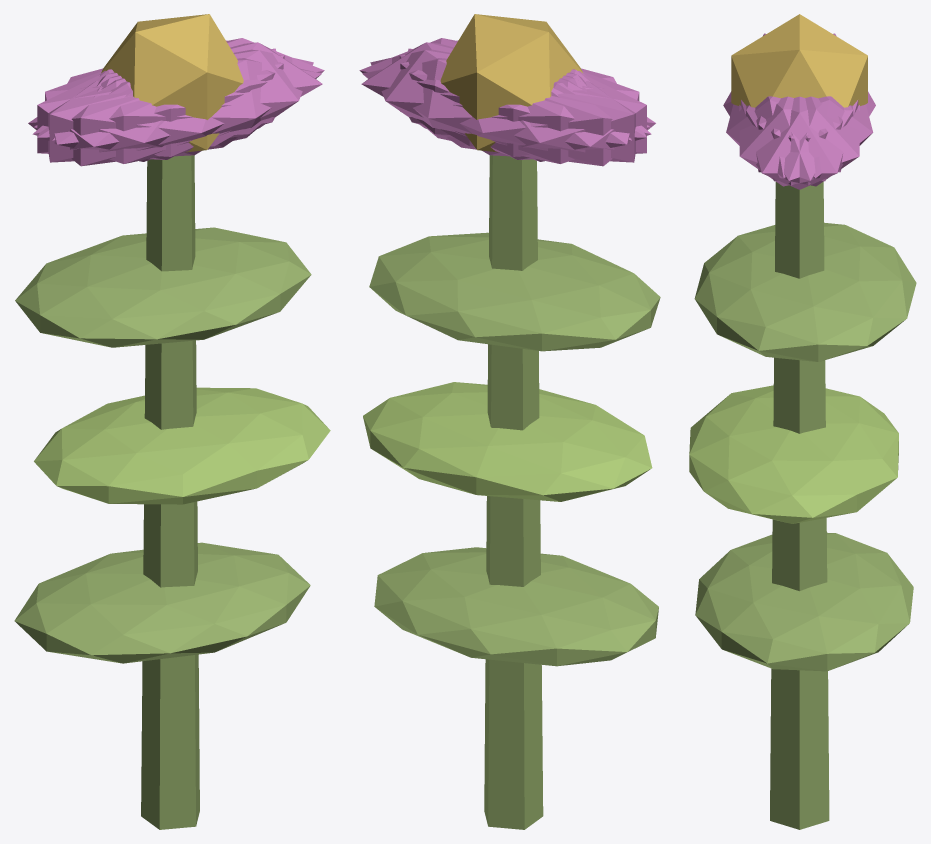
The model's file is adenanthera-pavonina.glb.
3 views of the same model, side by side, from view 1: azimuth 30°, elevation 25°; view 2: azimuth 150°, elevation 25°; view 3: azimuth 270°, elevation 25° (orthographic).
Parts seen in each view (by area): view 1: stem, leaf2, leaf1, leaf0, center, petal1, petal6, petal2, petal5, petal7, petal0, petal4 (+2 smaller); view 2: leaf2, stem, leaf0, leaf1, center, petal8, petal3, petal7, petal4, petal2, petal0, petal5 (+2 smaller); view 3: leaf2, leaf1, stem, leaf0, center, petal0, petal5, petal4, petal8, petal1.
Boxes of the visible parts, left/top/right/bottom form: stem: left=141, top=155, right=199, bottom=829; leaf2: left=15, top=227, right=311, bottom=347; leaf1: left=34, top=387, right=330, bottom=504; leaf0: left=14, top=542, right=310, bottom=663; center: left=101, top=14, right=243, bottom=152; petal1: left=32, top=58, right=321, bottom=163; petal6: left=28, top=71, right=237, bottom=166; petal2: left=48, top=48, right=275, bottom=162; petal5: left=52, top=49, right=313, bottom=156; petal7: left=37, top=54, right=284, bottom=159; petal0: left=101, top=42, right=322, bottom=146; petal4: left=34, top=38, right=324, bottom=137; leaf2: left=369, top=232, right=660, bottom=351; stem: left=484, top=155, right=543, bottom=829; leaf0: left=374, top=547, right=658, bottom=666; leaf1: left=363, top=382, right=652, bottom=501; center: left=440, top=14, right=582, bottom=152; petal8: left=362, top=58, right=651, bottom=163; petal3: left=446, top=71, right=655, bottom=166; petal7: left=408, top=48, right=635, bottom=162; petal4: left=370, top=49, right=631, bottom=156; petal2: left=399, top=54, right=646, bottom=159; petal0: left=361, top=42, right=583, bottom=146; petal5: left=359, top=38, right=650, bottom=137; leaf2: left=694, top=222, right=916, bottom=361; leaf1: left=689, top=385, right=898, bottom=523; stem: left=770, top=181, right=829, bottom=829; leaf0: left=695, top=532, right=913, bottom=671; center: left=731, top=14, right=867, bottom=107; petal0: left=741, top=96, right=858, bottom=189; petal5: left=739, top=96, right=853, bottom=186; petal4: left=746, top=96, right=859, bottom=186; petal8: left=756, top=96, right=873, bottom=178; petal1: left=726, top=96, right=842, bottom=178.
Bounding box in the file's own units: 0.1452 × 0.3872 × 0.1016.
